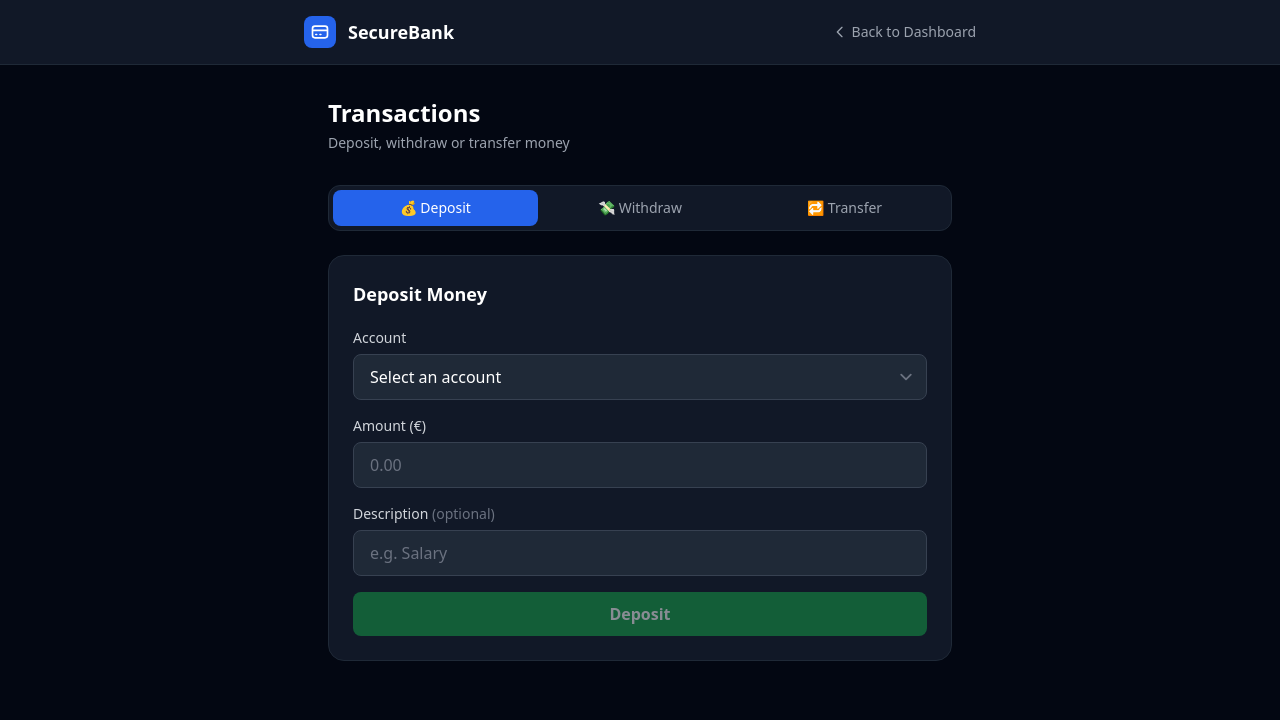
Test: Transfer page › shows an error message when deposit fails
The image size is (1280, 720).
Select "CHECKING — ABCDEF1234567890 (€1,500.00)" in the dropdown with test id "deposit-account-select" at [640, 377], box [353, 354, 927, 400]
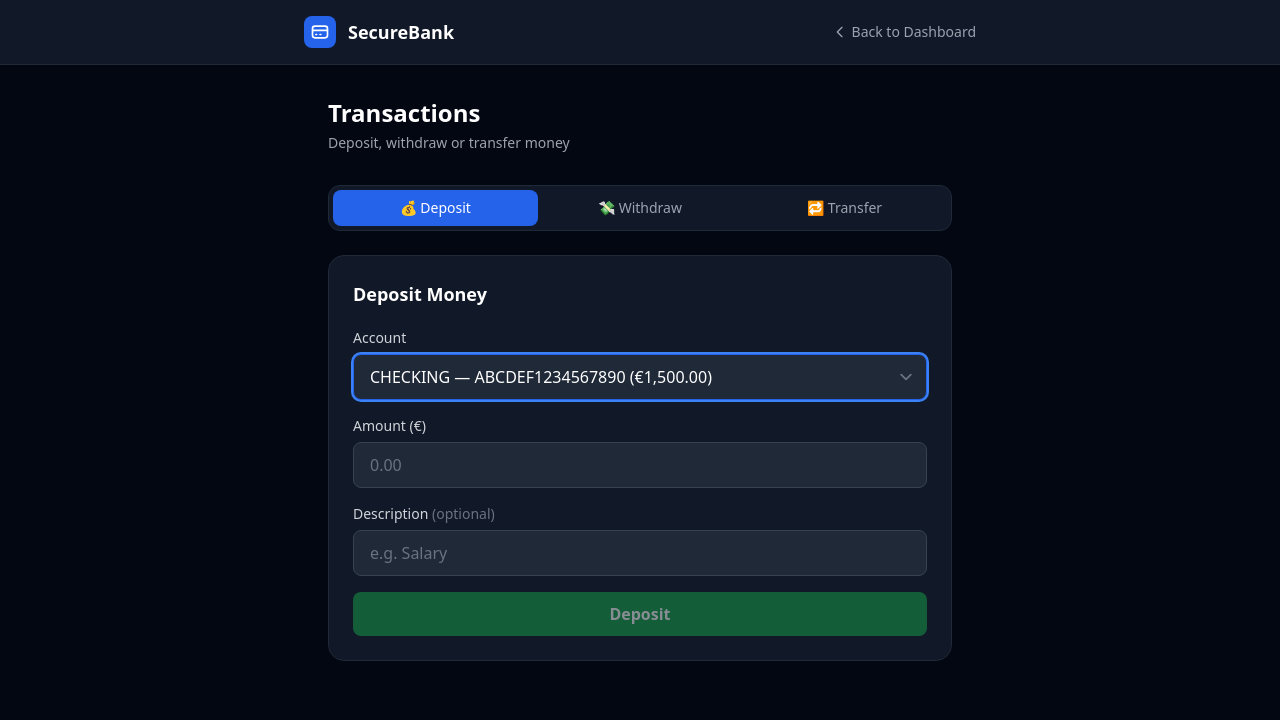
Type "100" into the number field with test id "deposit-amount-input" at [640, 465], box [353, 442, 927, 488]
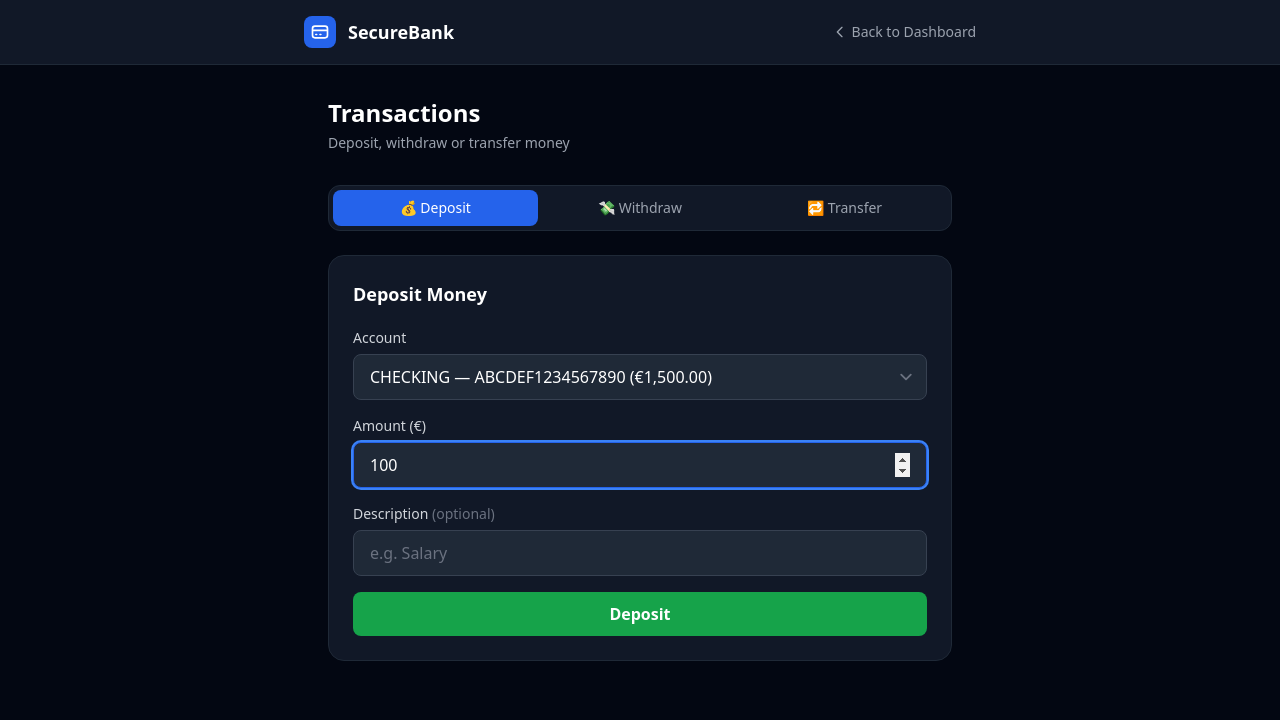
Click the button with test id "deposit-submit" at [640, 614], box [353, 592, 927, 636]
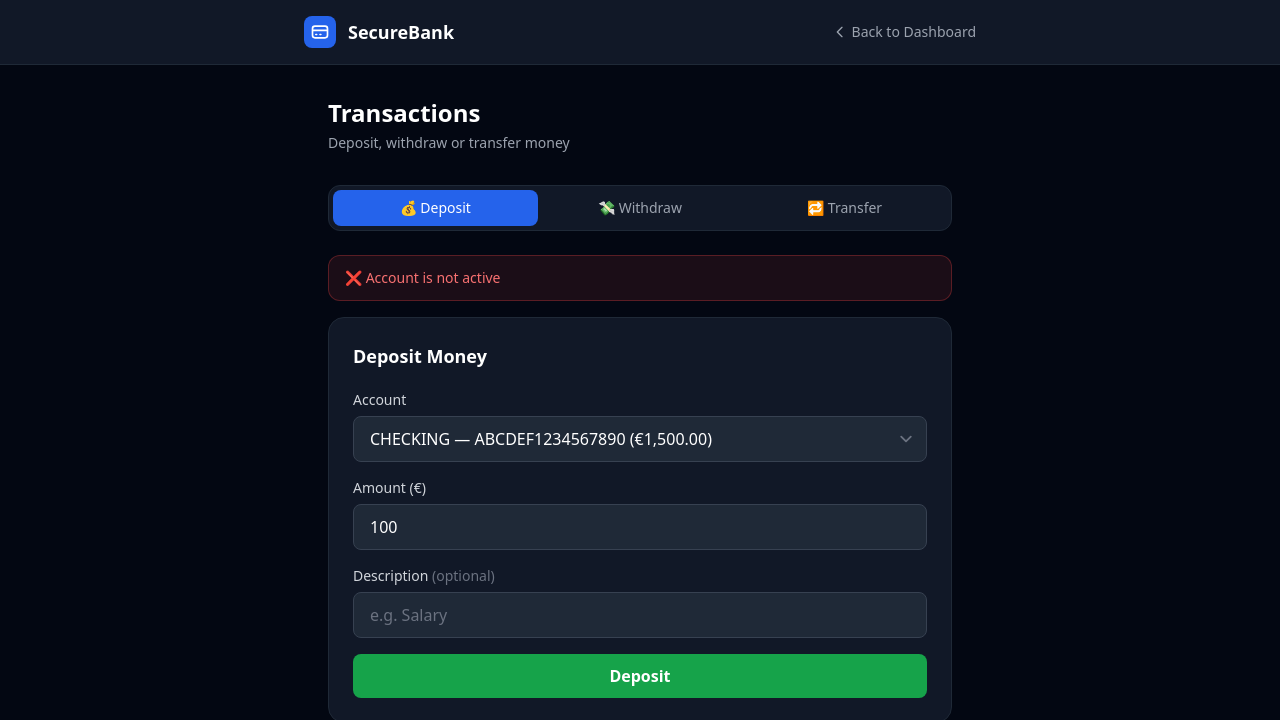
Check: the text "❌ Account is not active" is shown, box [328, 255, 952, 301]
